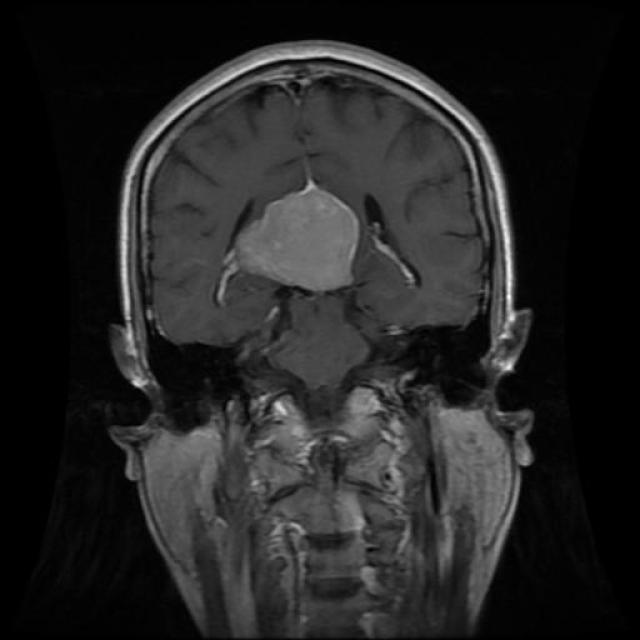meningioma: (238, 189, 359, 292)
